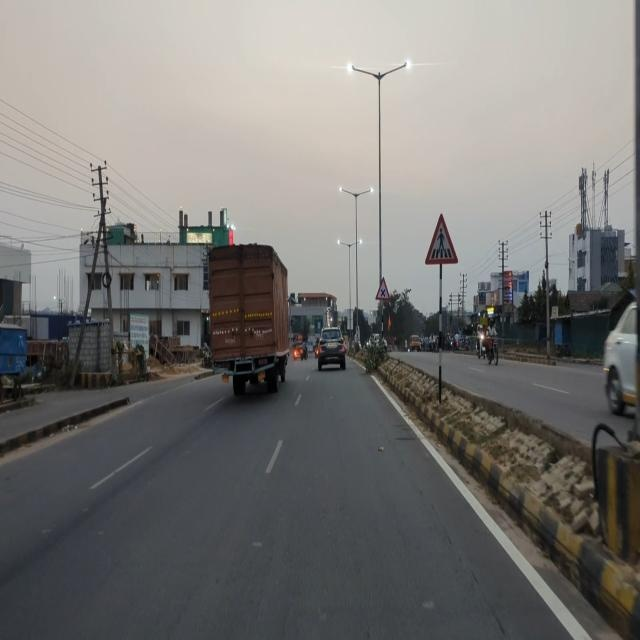bien_nguy_hiem: (425, 212, 459, 265), (375, 275, 390, 301)
